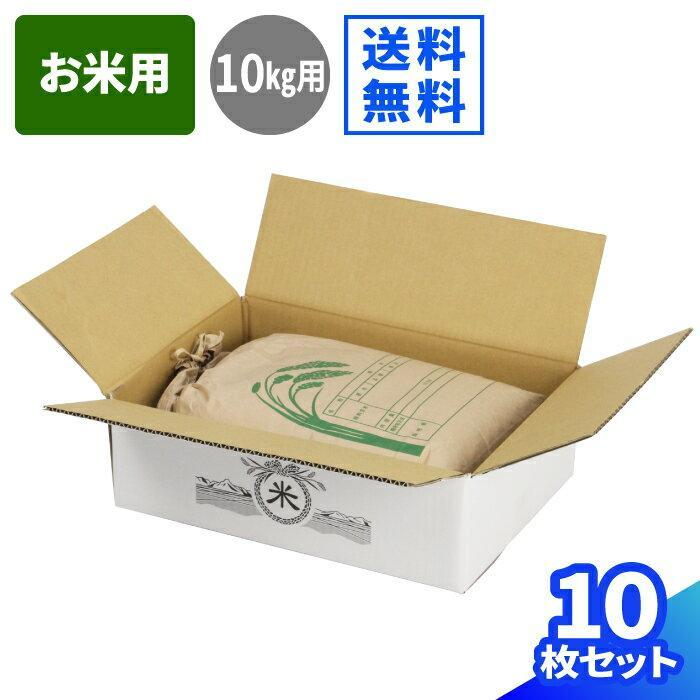box: (18, 171, 692, 595)
